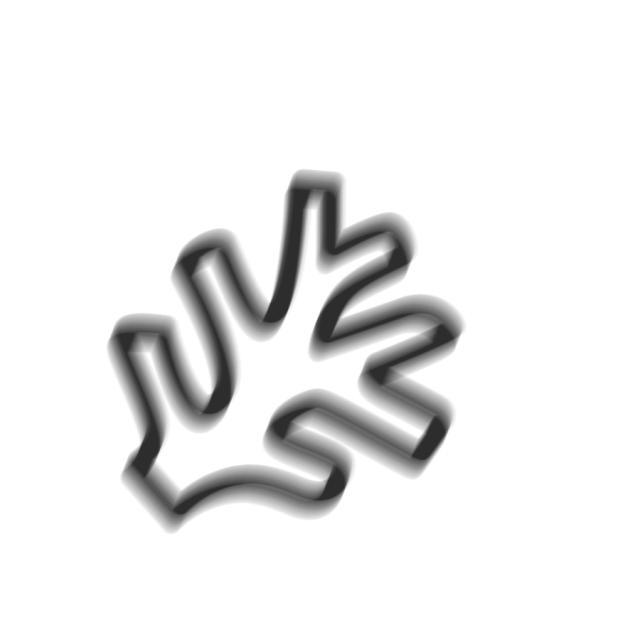coral: (103, 164, 475, 543)
